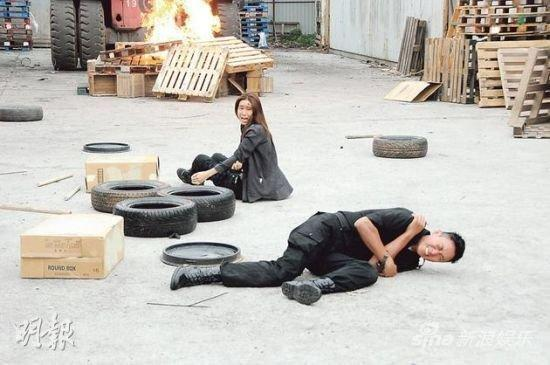Fall-Detected: (173, 193, 469, 311)
